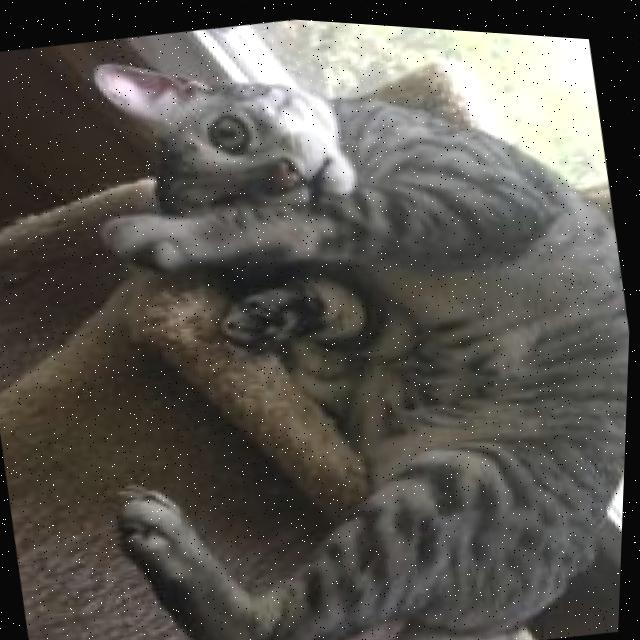Egyptian Mau: (30, 3, 640, 640)
